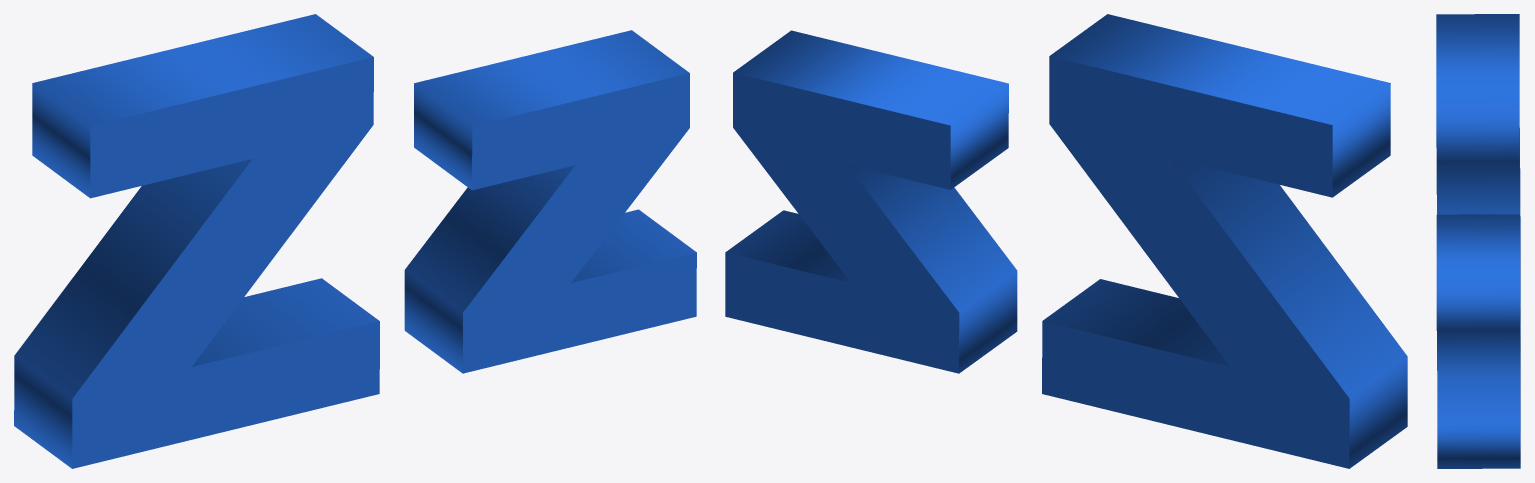
Rendered from letra z.fbx.
3 renders of one model, left to right at view 1: azimuth 30°, elevation 25°; view 2: azimuth 150°, elevation 25°; view 3: azimuth 270°, elevation 25°, orthographic. The views are drawn at different scales.
Visible parts, largest first — view 1: Text; view 2: Text; view 3: Text.
Boxes of the visible parts, x1,y1,x2,y2 form: Text: [14, 14, 696, 468]; Text: [725, 14, 1407, 468]; Text: [1436, 14, 1520, 468].
Bounding box in the file's own units: 99.22 × 51.56 × 16.21.
